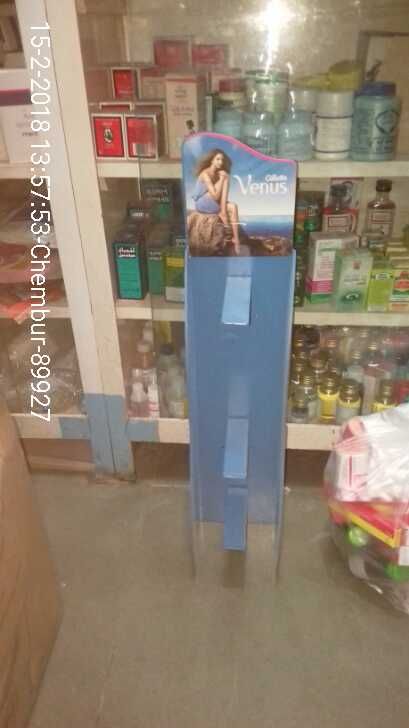reject: (204, 296, 279, 376)
